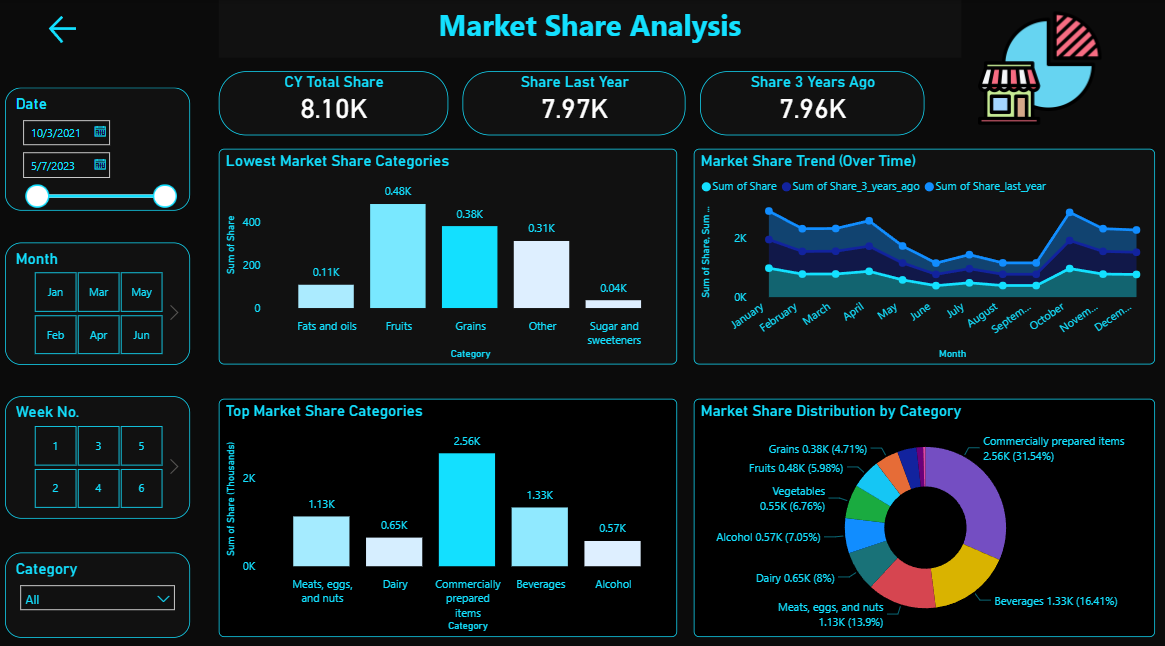

This screenshot's page, from the dashboard's own definition file:
{"tool":"powerbi","page":{"name":"Market Share","canvas":[1280,720],"ordinal":4},"visuals":[{"type":"slicer","title":"Date","fields":{"Values":["clean_data.Date"]},"box":[5.6,95.6,203.3,135.6],"z":0},{"type":"card","title":"CY Total Share","fields":{"Values":["Sum(clean_data.Share)"]},"box":[240,78.5,251.7,70],"z":1000},{"type":"card","title":"Share Last Year","fields":{"Values":["Sum(clean_data.Share_last_year)"]},"box":[507.8,78.5,245,70],"z":2000},{"type":"card","title":"Share 3 Years Ago","fields":{"Values":["Sum(clean_data.Share_3_years_ago)"]},"box":[768.9,78.5,246.7,70],"z":3000},{"type":"textbox","box":[240,0,815,63.3],"z":4000},{"type":"slicer","title":"Month","fields":{"Values":["clean_data.Month"]},"box":[5.6,265.6,203.3,134.4],"z":5000},{"type":"slicer","title":"Week No.","fields":{"Values":["clean_data.WeekNo"]},"box":[5.6,434.4,203.3,134.4],"z":6000},{"type":"slicer","title":"Category","fields":{"Values":["clean_data.Category"]},"box":[5,606.7,203.3,93.3],"z":7000},{"type":"actionButton","box":[50,11.7,78.3,40],"z":8000},{"type":"image","box":[1016,0,252,150],"z":9000},{"type":"stackedAreaChart","title":"Market Share Trend (Over Time)","fields":{"Category":["clean_data.Date.Variation.Date Hierarchy.Month"],"Y":["Sum(clean_data.Share)","Sum(clean_data.Share_3_years_ago)","Sum(clean_data.Share_last_year)"]},"box":[761.7,163.3,506.7,236.7],"z":10000},{"type":"clusteredColumnChart","title":"Lowest Market Share Categories","fields":{"Category":["clean_data.Category"],"Y":["Sum(clean_data.Share)"]},"box":[240,163.3,503.3,236.7],"z":11000},{"type":"donutChart","title":"Market Share Distribution by Category","fields":{"Category":["clean_data.Category"],"Y":["Sum(clean_data.Share)"]},"box":[761.7,438.3,506.7,261.7],"z":12000},{"type":"clusteredColumnChart","title":"Top Market Share Categories","fields":{"Y":["Sum(clean_data.Share)"],"Category":["clean_data.Category"]},"box":[240,438.3,503.3,261.7],"z":13000}]}

Visuals, with their boxes in screenshot pixels (x1, y1, x2, y2), scaled from the page's 1280x720 canvas onto the 1165x646 screenshot:
"Date" slicer: 5 86 190 207
"CY Total Share" card: 218 70 448 133
"Share Last Year" card: 462 70 685 133
"Share 3 Years Ago" card: 700 70 924 133
textbox: 218 0 960 57
"Month" slicer: 5 238 190 359
"Week No." slicer: 5 390 190 510
"Category" slicer: 5 544 190 628
actionButton: 46 10 117 46
image: 925 0 1154 135
"Market Share Trend (Over Time)" stackedAreaChart: 693 147 1154 359
"Lowest Market Share Categories" clusteredColumnChart: 218 147 677 359
"Market Share Distribution by Category" donutChart: 693 393 1154 628
"Top Market Share Categories" clusteredColumnChart: 218 393 677 628
